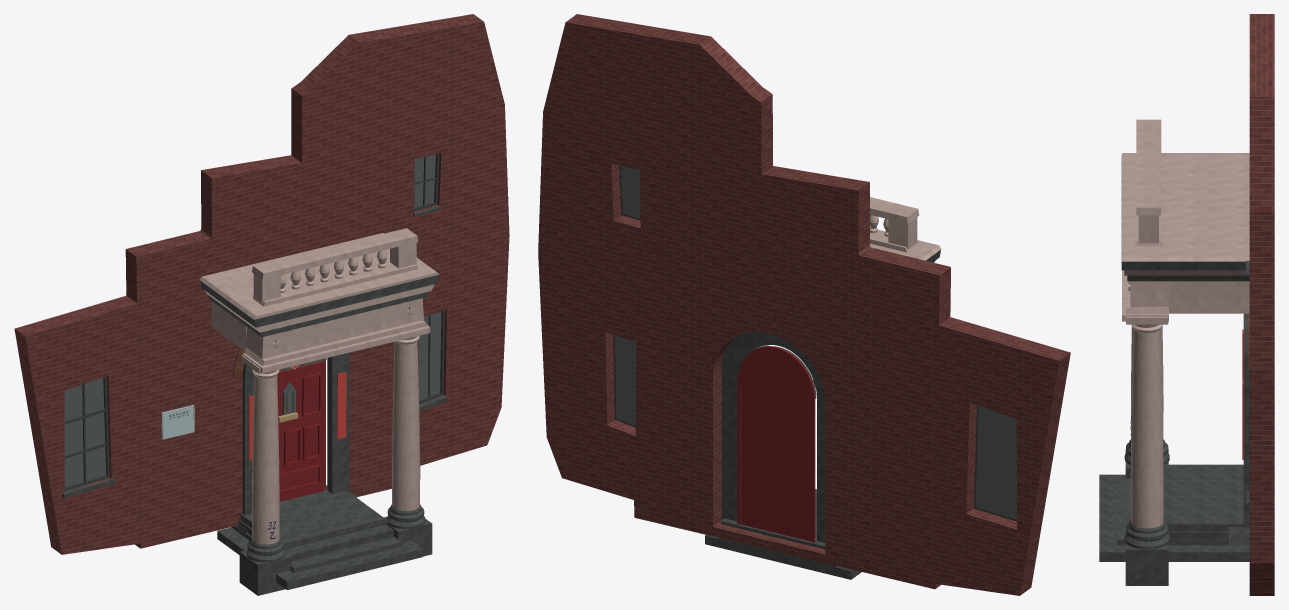
Rendered from full-source.glb.
The picture shows the model from 3 angles, left to right: view 1: azimuth 30°, elevation 25°; view 2: azimuth 150°, elevation 25°; view 3: azimuth 270°, elevation 25°; orthographic projection. The views are drawn at different scales.
Parts seen in each view (by area): view 1: 新华路329弄32号乙花园住宅双柱门廊; view 2: 新华路329弄32号乙花园住宅双柱门廊; view 3: 新华路329弄32号乙花园住宅双柱门廊.
Boxes of the visible parts, <box> form: 新华路329弄32号乙花园住宅双柱门廊: <box>14,14,509,595</box>; 新华路329弄32号乙花园住宅双柱门廊: <box>538,14,1070,595</box>; 新华路329弄32号乙花园住宅双柱门廊: <box>1099,14,1274,595</box>.
Size of the model in its own units: 8.37 by 7.89 by 2.24.
16 materials, 4 textured.
